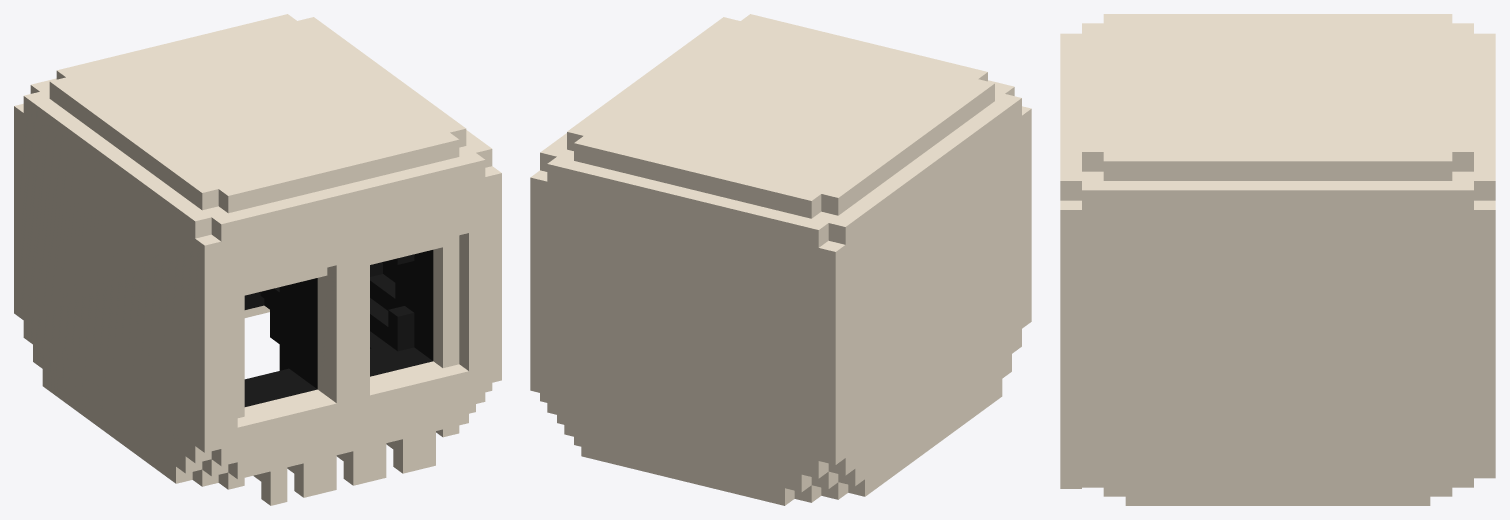
The model's file is Skull.obj.
3 renders of one model, left to right at view 1: azimuth 30°, elevation 25°; view 2: azimuth 150°, elevation 25°; view 3: azimuth 270°, elevation 25°, orthographic. The views are drawn at different scales.
Visible parts, largest first — view 1: Skull; view 2: Skull; view 3: Skull.
Boxes of the visible parts, x1,y1,x2,y2 form: Skull: (14,14,501,505); Skull: (530,14,1031,505); Skull: (1060,14,1495,505).
Bounding box in the file's own units: 18 × 18 × 20.
Materials: 1 (1 with a texture image).
